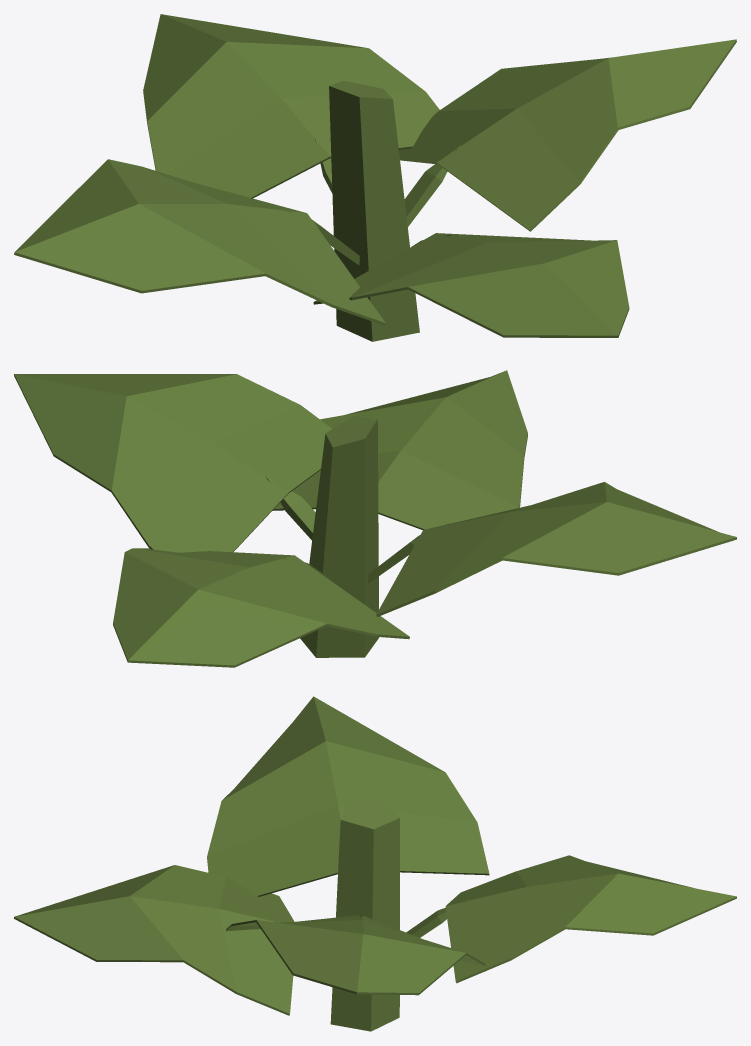
The model's file is PumpkinPlant_Stage01.fbx.
3 renders of one model, top to bottom at view 1: azimuth 30°, elevation 25°; view 2: azimuth 150°, elevation 25°; view 3: azimuth 270°, elevation 25°, orthographic. The views are drawn at different scales.
Visible parts, largest first — view 1: PumpkinPlant_Stage01; view 2: PumpkinPlant_Stage01; view 3: PumpkinPlant_Stage01.
Part boxes in pixels (x1,y1,x2,y2): PumpkinPlant_Stage01: (14,14,736,341); PumpkinPlant_Stage01: (14,370,736,667); PumpkinPlant_Stage01: (14,696,736,1031).
Size of the model in its own units: 374 by 115 by 373.
